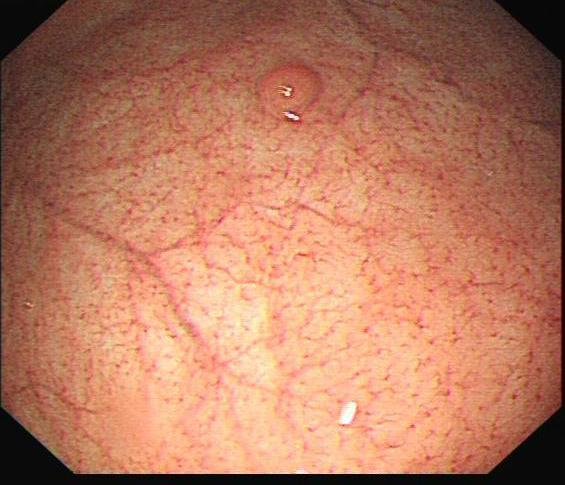Polyp: (254, 59, 326, 124)
